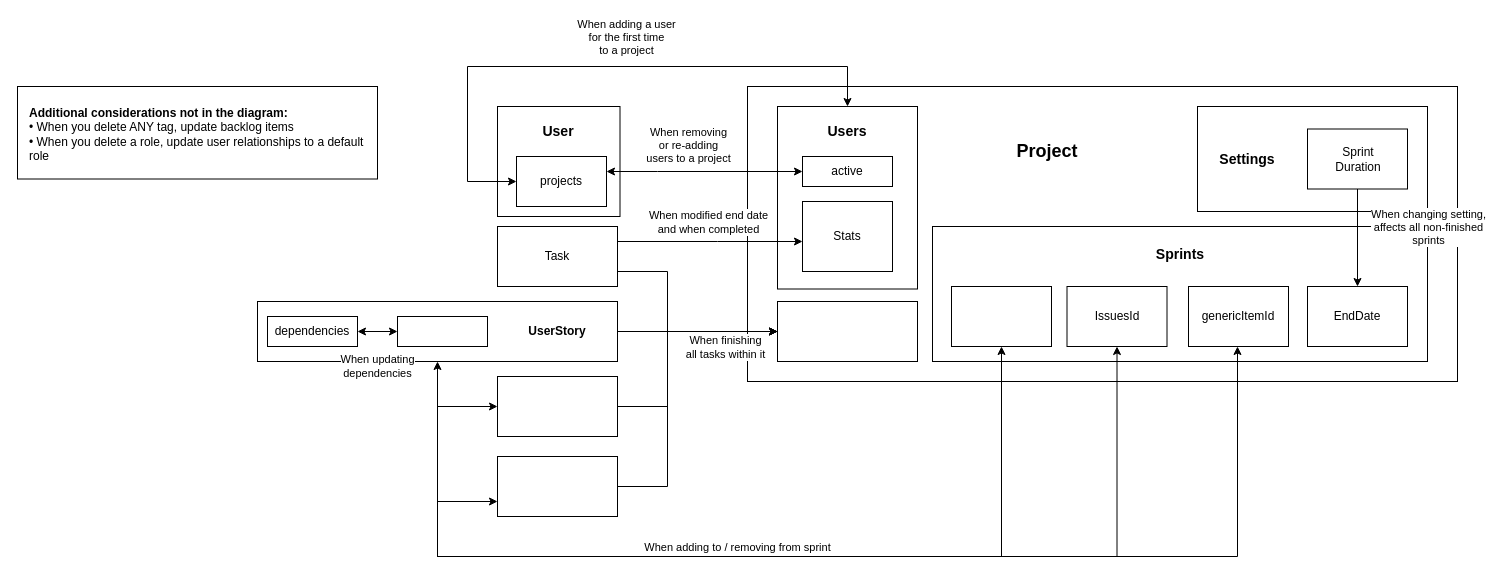
Image size: 1503x583. Some labels were removed from this diagram. Here are the shapes that lost their labels. From the top down, the centre of each, then its label:
At [442,331]: "requiredBy".
At [847,331]: "Activities".
At [1001,316]: "userStoriesId".
At [557,406]: "Issue".
At [557,486]: "Backlog Item".
